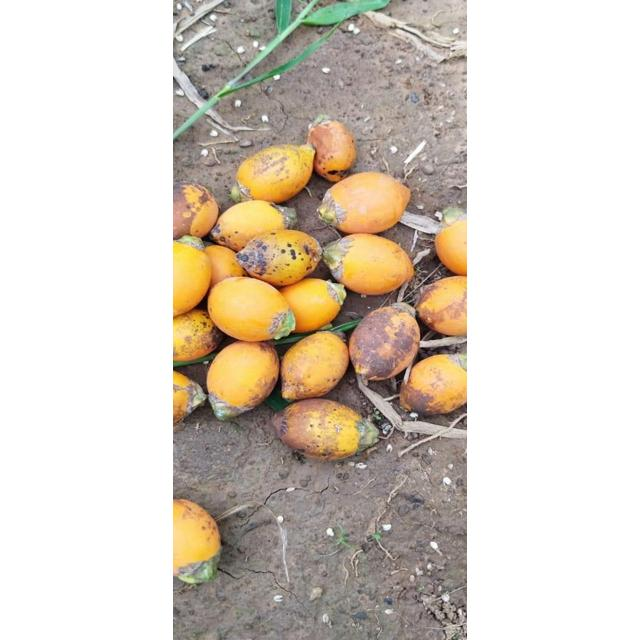good: (272, 398, 380, 458), (206, 277, 294, 343), (205, 341, 281, 417), (322, 234, 413, 296), (318, 173, 412, 233), (348, 304, 420, 382), (279, 332, 351, 401), (235, 230, 323, 286), (234, 144, 316, 203), (399, 352, 466, 416), (210, 200, 292, 252), (174, 498, 222, 584), (279, 278, 345, 334), (308, 116, 357, 180), (416, 276, 466, 338), (174, 240, 212, 320), (173, 306, 224, 362), (174, 182, 218, 242), (174, 368, 206, 428), (434, 218, 466, 276), (204, 245, 244, 289), (440, 206, 466, 228), (448, 351, 467, 374), (197, 245, 211, 275), (230, 182, 248, 204), (173, 370, 189, 390), (203, 185, 215, 195)
